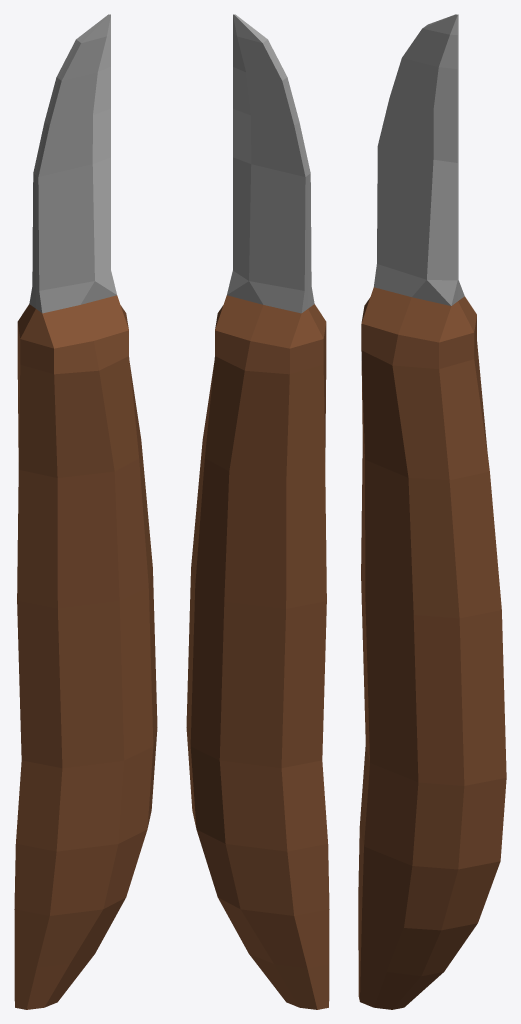
Rendered from knife02.gltf.
3 views of the same model, side by side, from view 1: azimuth 30°, elevation 25°; view 2: azimuth 150°, elevation 25°; view 3: azimuth 330°, elevation 25° (orthographic). The views are drawn at different scales.
Visible parts, largest first — view 1: Cylinder.001; view 2: Cylinder.001; view 3: Cylinder.001.
Part boxes in pixels (box(x1,y1,x2,y2)): Cylinder.001: box(14, 14, 157, 1009); Cylinder.001: box(186, 14, 329, 1009); Cylinder.001: box(358, 14, 506, 1009).
Size of the model in its own units: 0.0204 by 0.1321 by 0.0128.
1 material, 1 textured.
